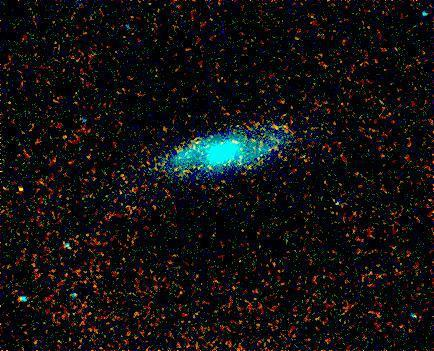star: (6, 175, 36, 205)
